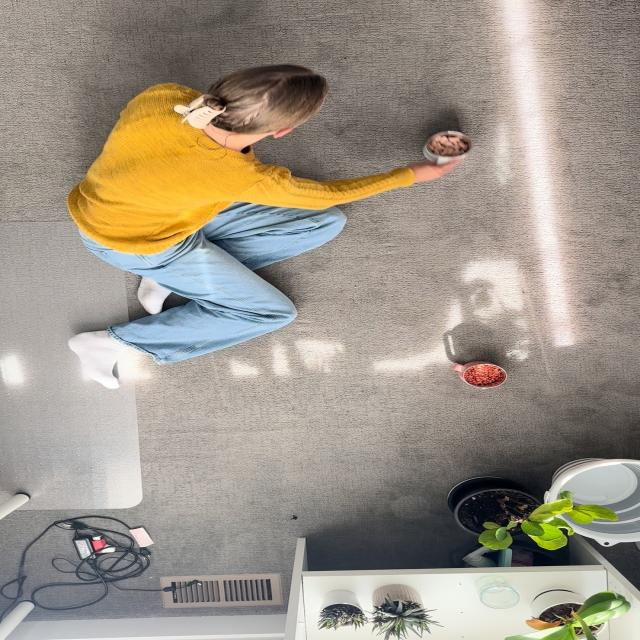IBC: (424, 131, 471, 165), (450, 361, 507, 388)
